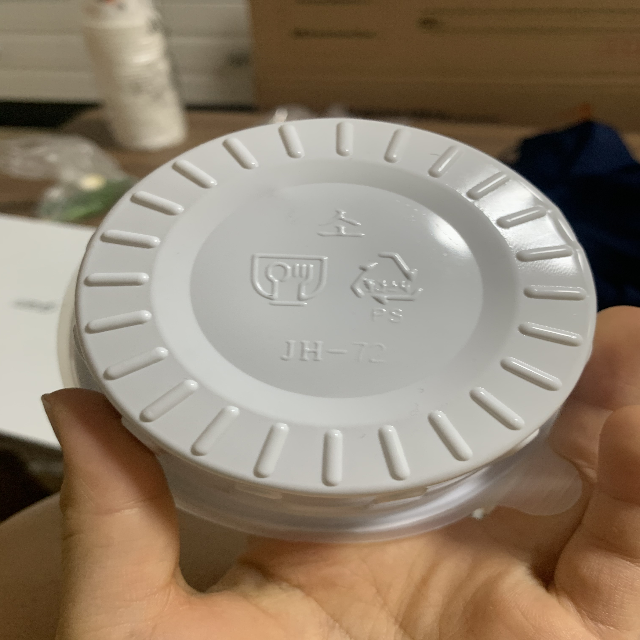ps: (350, 247, 422, 324)
